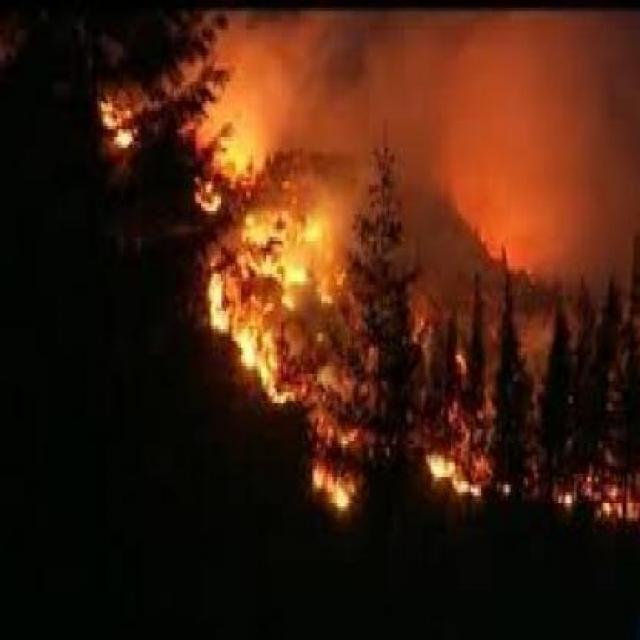Fire: (168, 165, 374, 539), (81, 46, 312, 252)
